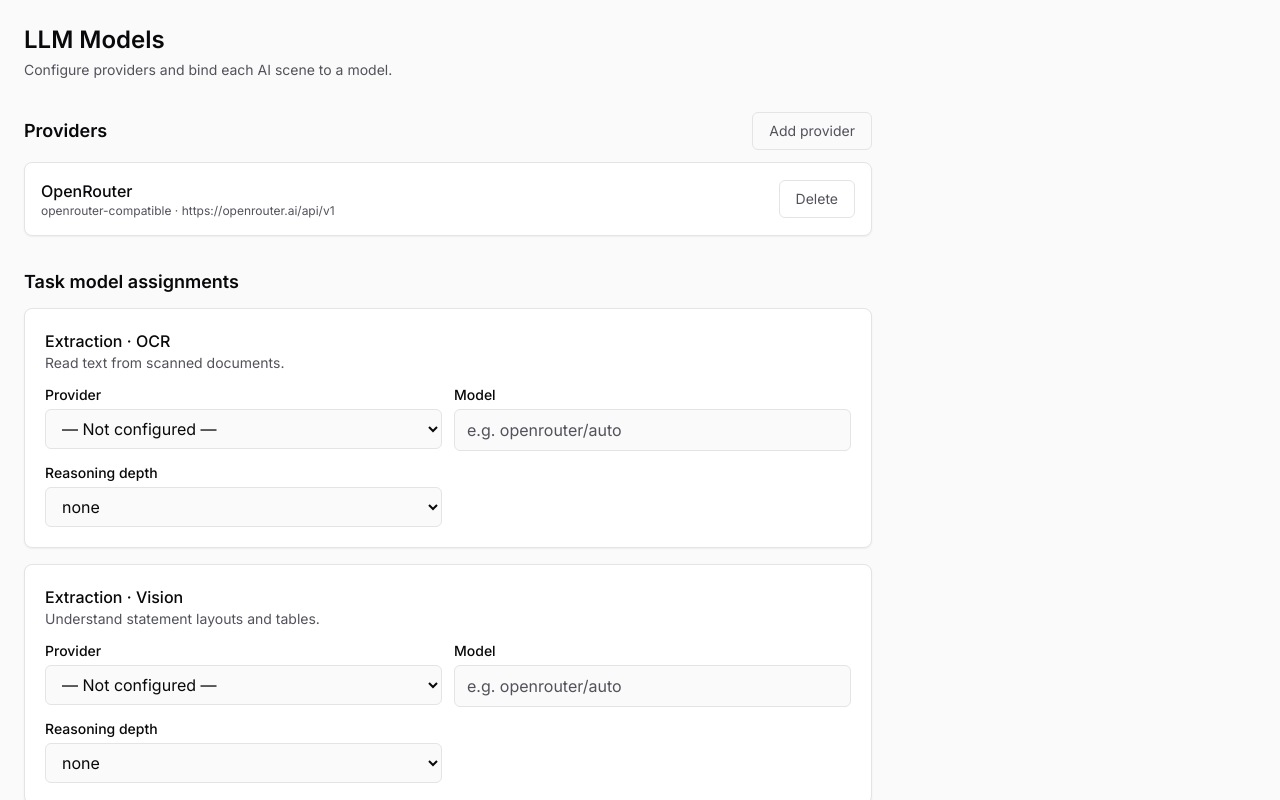
Scenario: LlmSettingsPanel (EPIC-023 PR4) › surfaces a delete error
Step 1. Click the button with aria-label "Delete provider OpenRouter" → (817, 199), box [779,180,855,218]
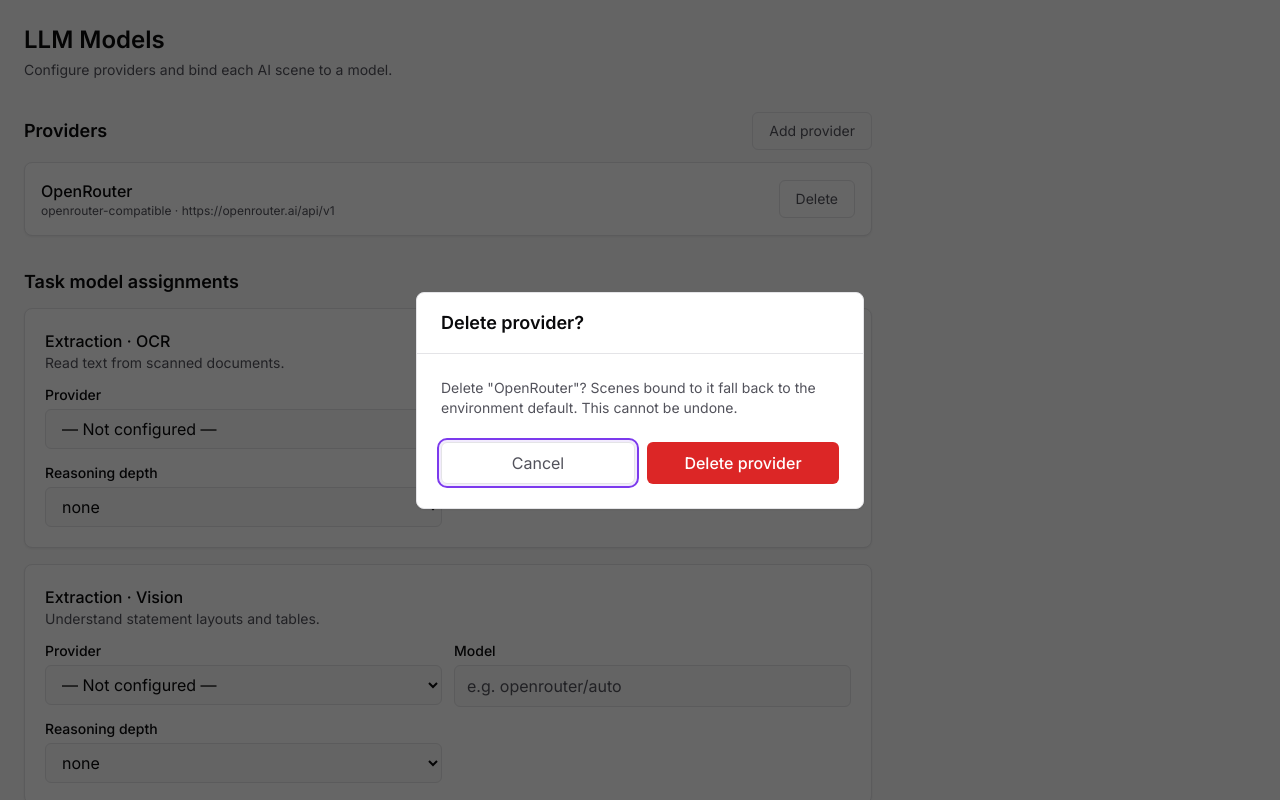
Step 2. Click the button "Delete provider" → (743, 462), box [647,442,839,484]
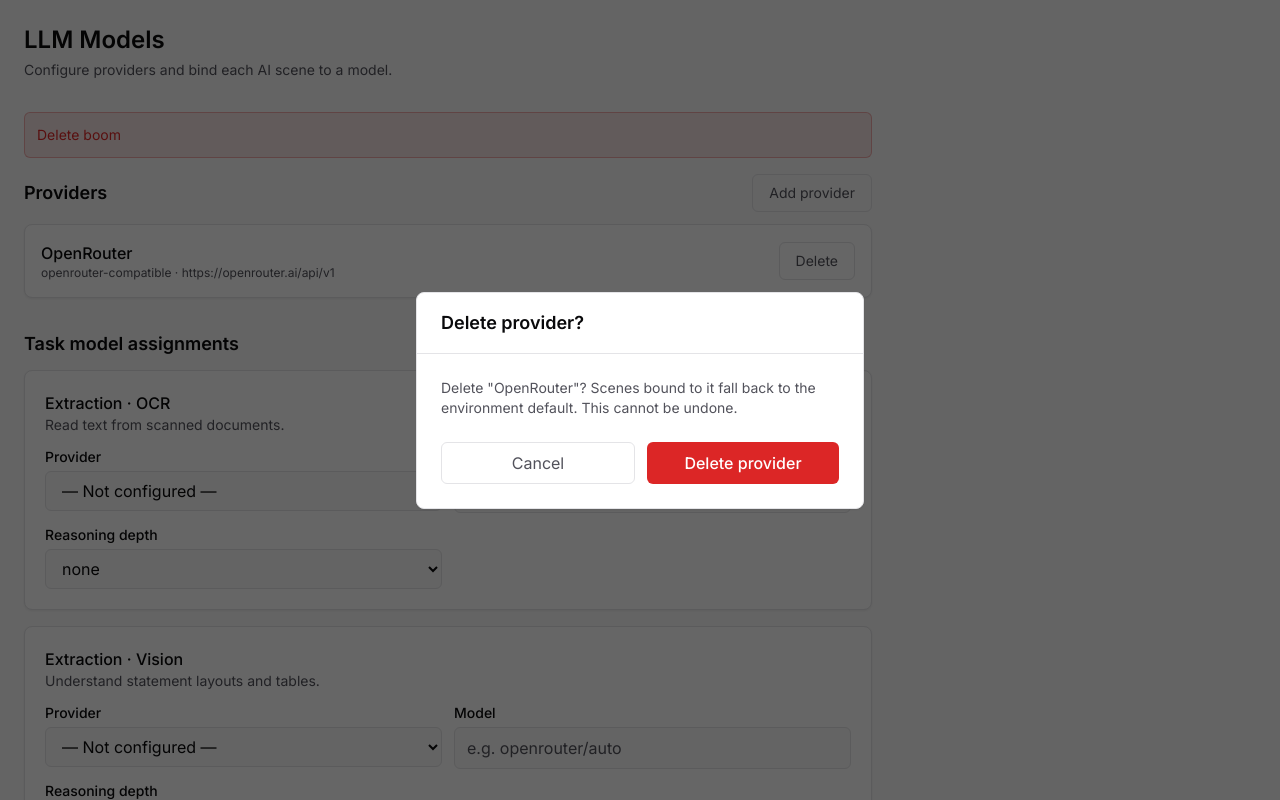
Expected: the message reads "Delete boom", [37,126,121,143]
